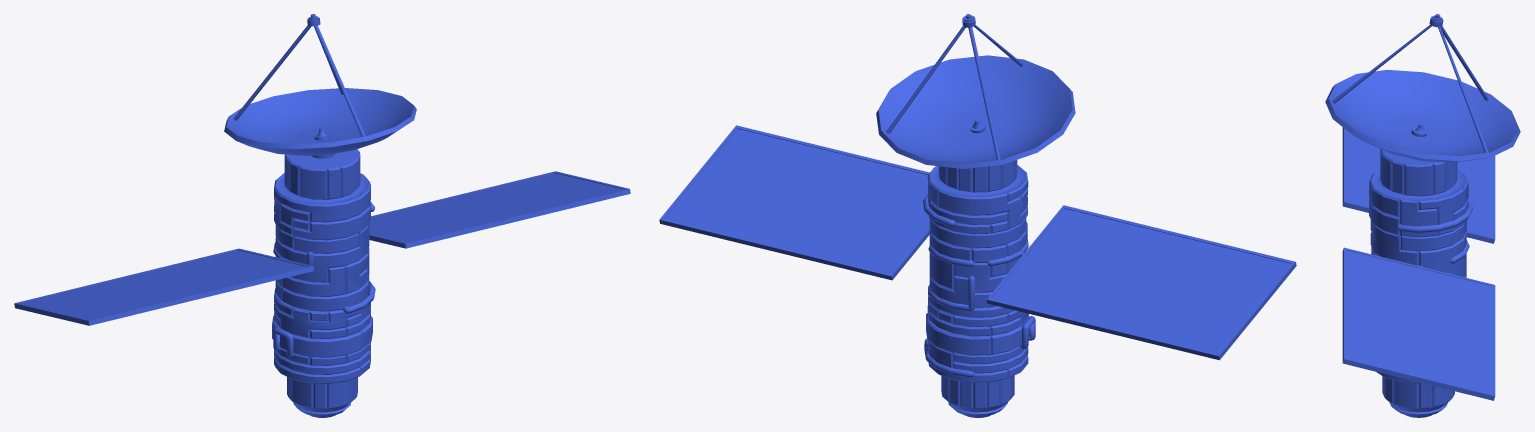
The model's file is BigSatellite_Final_FBX.fbx.
3 renders of one model, left to right at view 1: azimuth 30°, elevation 25°; view 2: azimuth 150°, elevation 25°; view 3: azimuth 270°, elevation 25°, orthographic. The views are drawn at different scales.
Visible parts, largest first — view 1: Satellite Body, Satellite Panels, Big Satellite Dish, Satellite Tri-Poles, Satellite Plates, Satellite Pipes; view 2: Satellite Panels, Satellite Body, Big Satellite Dish, Satellite Pipes, Satellite Tri-Poles, Satellite Plates; view 3: Satellite Panels, Big Satellite Dish, Satellite Body, Satellite Tri-Poles, Satellite Plates, Satellite Pipes.
Part boxes in pixels (x1,y1,x2,y2): Satellite Body: (272,149,372,417); Satellite Panels: (14,171,630,325); Big Satellite Dish: (224,88,416,155); Satellite Tri-Poles: (233,25,365,136); Satellite Plates: (274,173,370,339); Satellite Pipes: (273,202,375,357); Satellite Panels: (659,125,1296,360); Satellite Body: (926,160,1029,417); Big Satellite Dish: (876,55,1075,168); Satellite Pipes: (923,195,1035,377); Satellite Tri-Poles: (886,25,1023,159); Satellite Plates: (927,165,1027,337); Satellite Panels: (1342,127,1495,400); Big Satellite Dish: (1325,69,1520,162); Satellite Body: (1369,149,1468,417); Satellite Tri-Poles: (1332,24,1488,152); Satellite Plates: (1371,169,1466,200); Satellite Pipes: (1396,205,1472,263).
Size of the model in its own units: 2737 by 1884 by 842.
